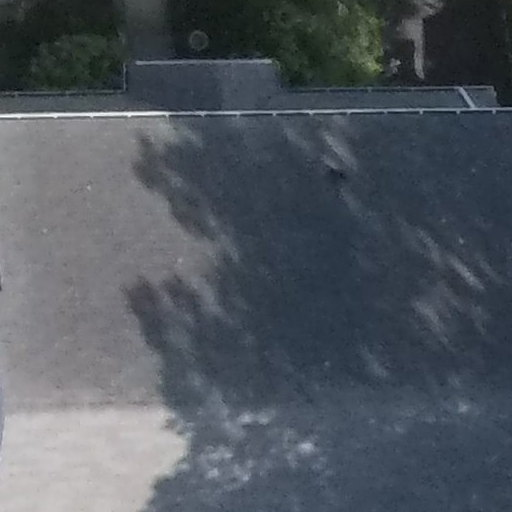container: (188, 22, 213, 56)
